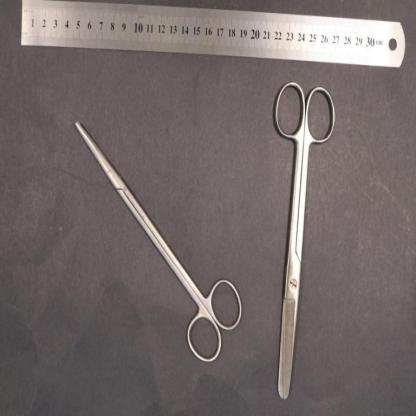7 Metzenbaum Scissors: (75, 121, 244, 366)
Dressing Scissors: (274, 79, 338, 400)
